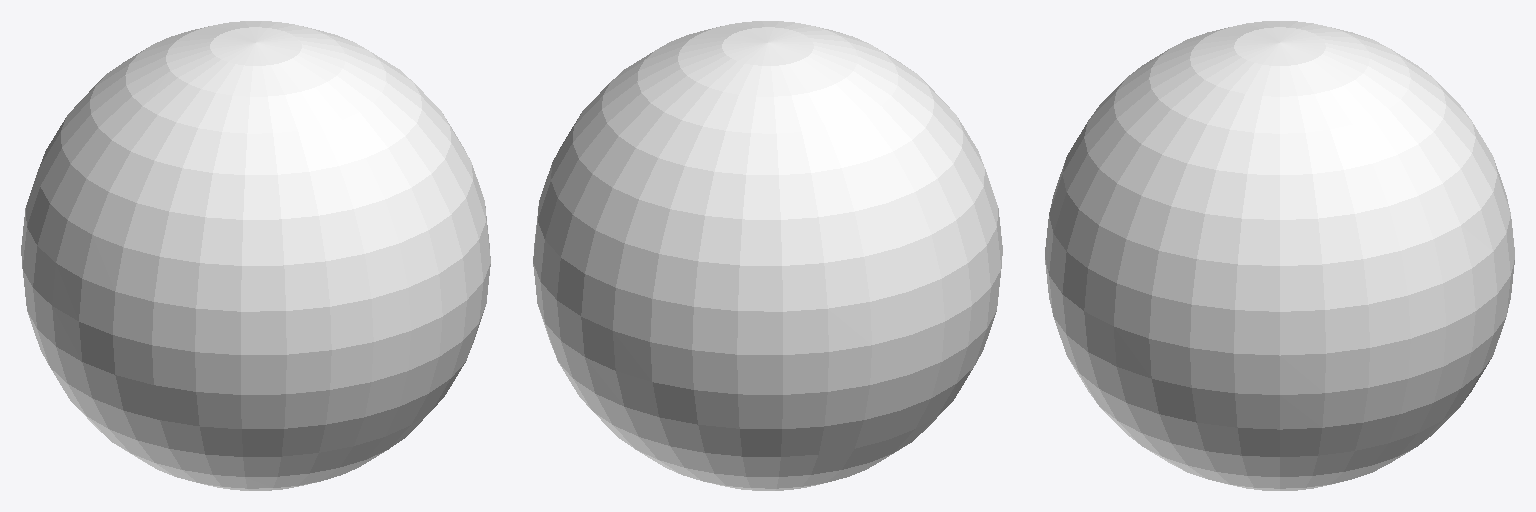
File: Centeroid.obj
3 views of the same model, side by side, from view 1: azimuth 30°, elevation 25°; view 2: azimuth 150°, elevation 25°; view 3: azimuth 270°, elevation 25° (orthographic).
Parts seen in each view (by area): view 1: ??; view 2: ??; view 3: ??.
Boxes of the visible parts, <box> form: ??: <box>21,21,490,490</box>; ??: <box>533,21,1002,490</box>; ??: <box>1045,21,1514,490</box>.
Size of the model in its own units: 2 by 2 by 2.